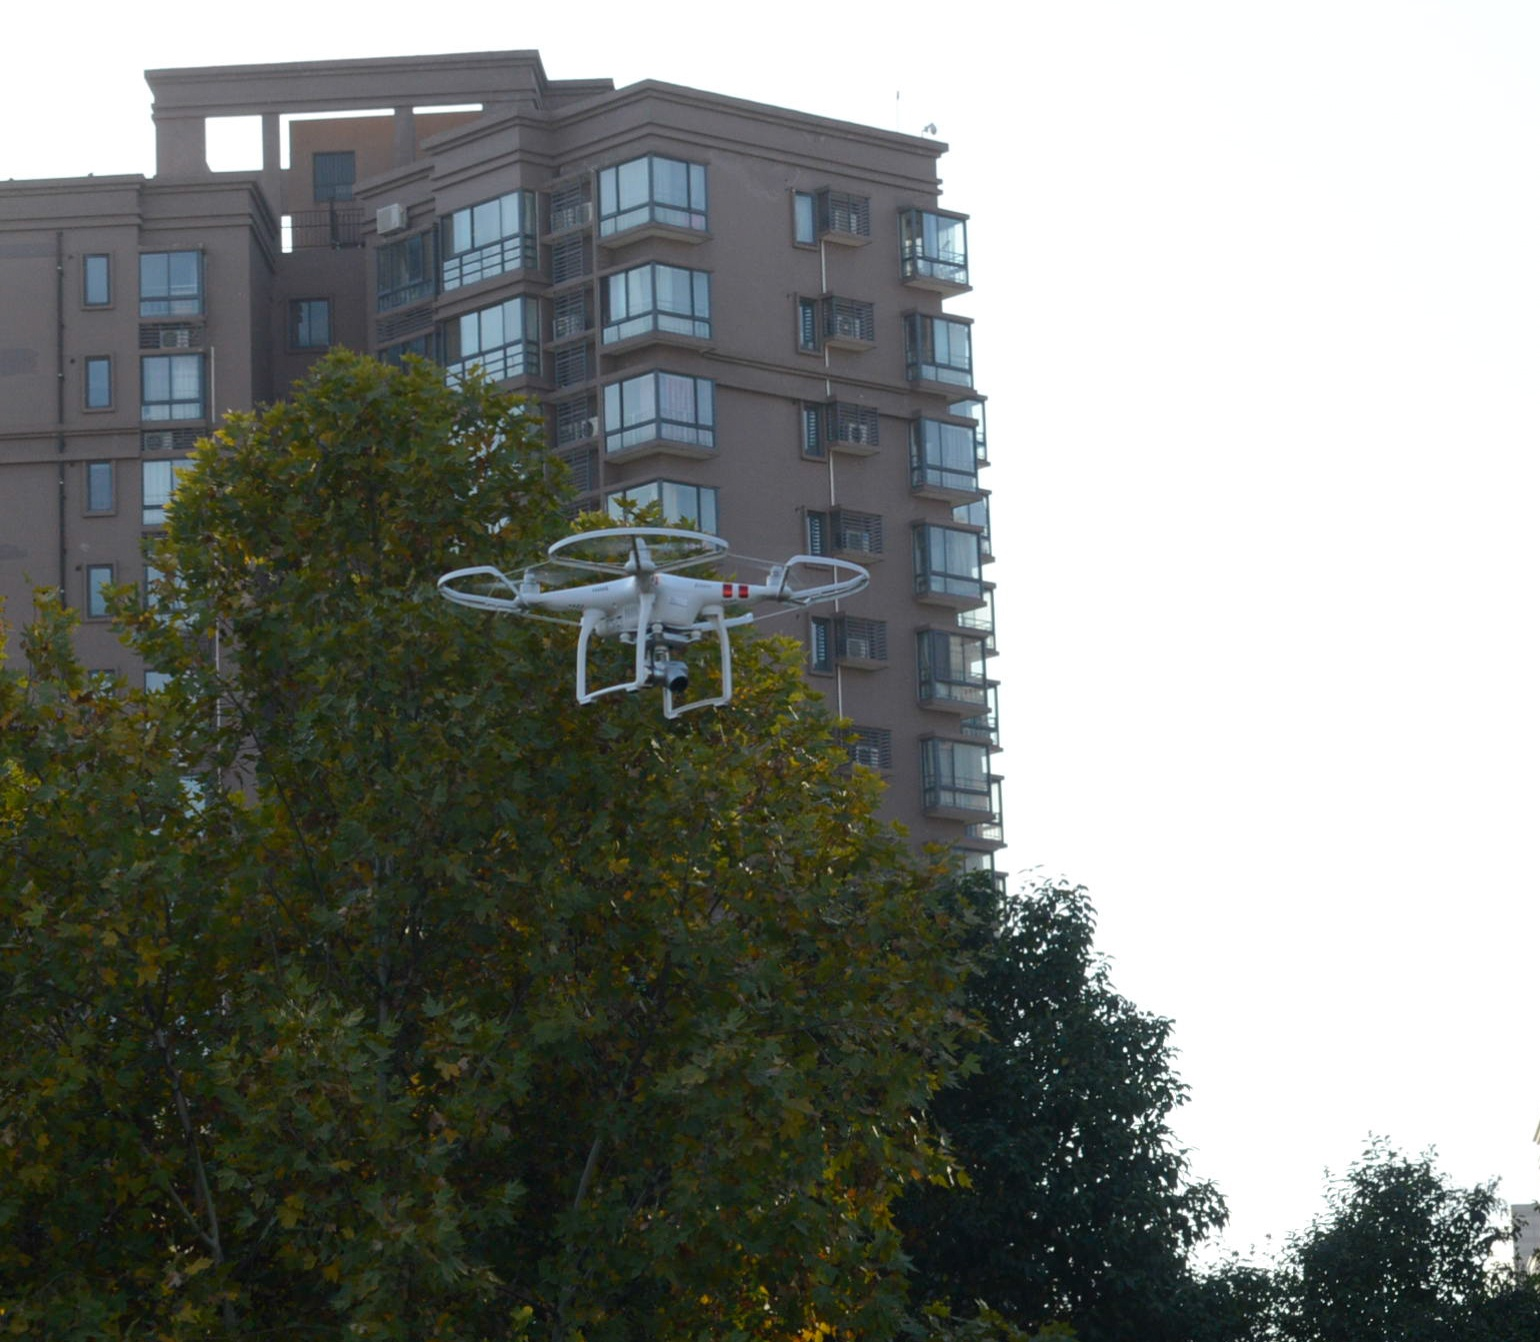DJI: (432, 525, 873, 721)
